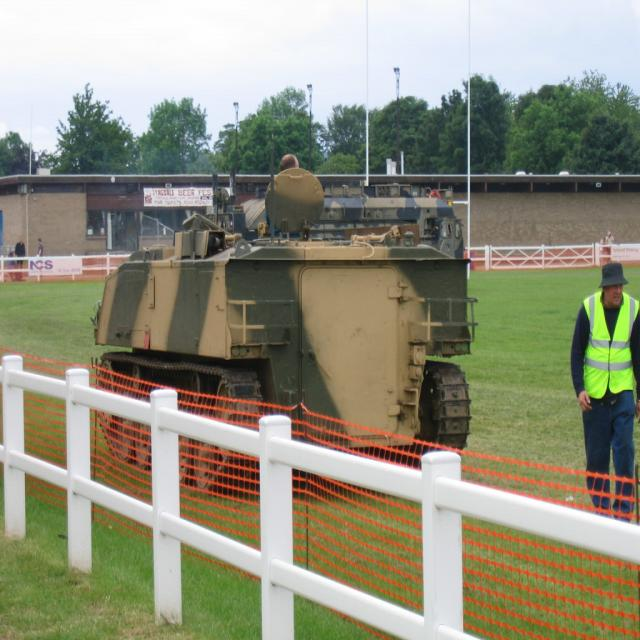tank: (90, 131, 479, 493)
